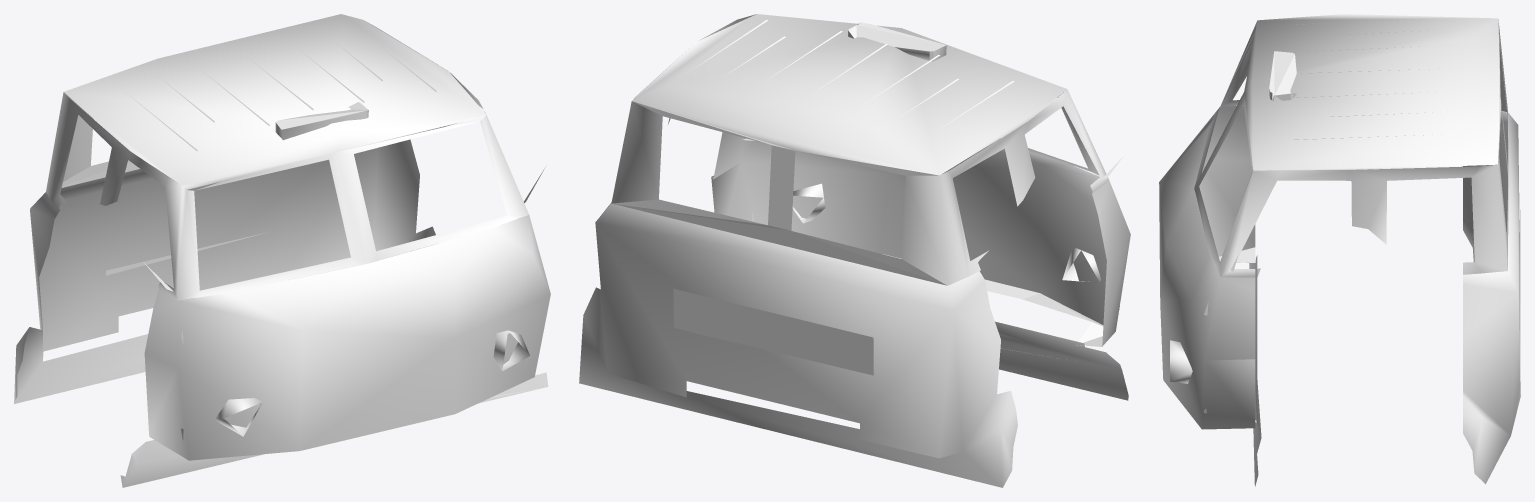
3 views of the same model, side by side, from view 1: azimuth 30°, elevation 25°; view 2: azimuth 150°, elevation 25°; view 3: azimuth 270°, elevation 25° (orthographic). The views are drawn at different scales.
Size of the model in its own units: 3.14 by 2.24 by 2.32.
1 material, 1 textured.
